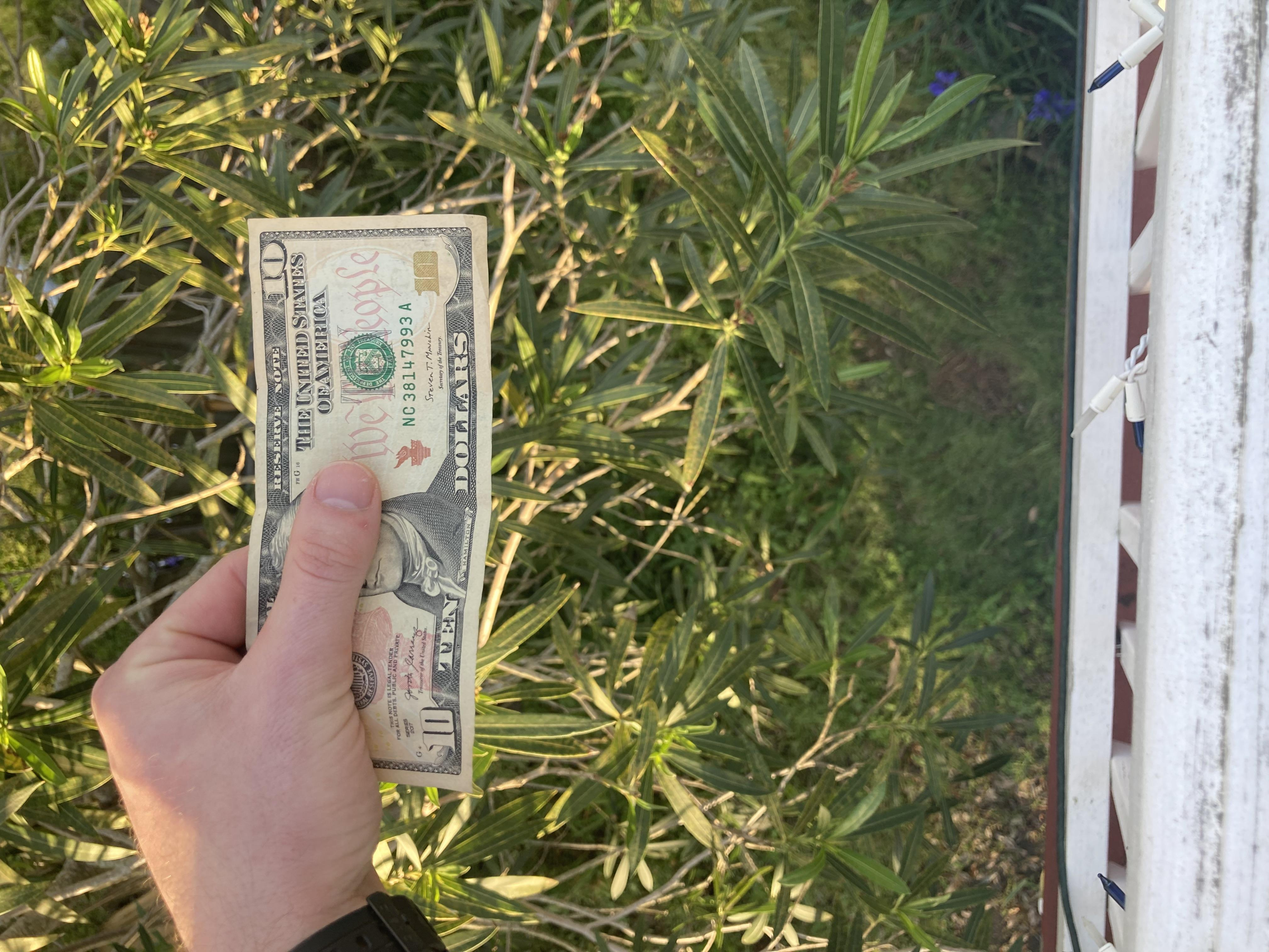ten-front: (213, 186, 981, 368)
